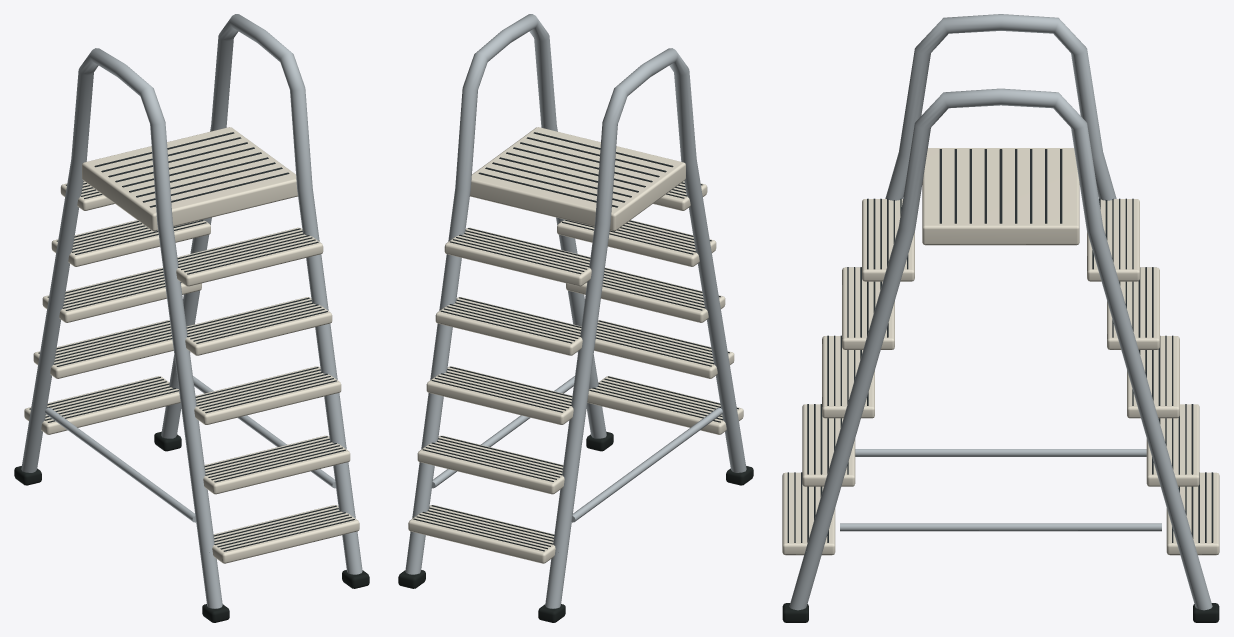
File: outdoor-pool-ladder.glb
3 views of the same model, side by side, from view 1: azimuth 30°, elevation 25°; view 2: azimuth 150°, elevation 25°; view 3: azimuth 270°, elevation 25° (orthographic). The views are drawn at different scales.
Parts seen in each view (by area): view 1: outdoor-pool-ladder authored assembly; view 2: outdoor-pool-ladder authored assembly; view 3: outdoor-pool-ladder authored assembly.
Boxes of the visible parts, x1=… form: outdoor-pool-ladder authored assembly: x1=14, y1=14, x2=369, y2=622; outdoor-pool-ladder authored assembly: x1=398, y1=14, x2=753, y2=622; outdoor-pool-ladder authored assembly: x1=782, y1=14, x2=1219, y2=622.
Bounding box in the file's own units: 0.66 × 1.94 × 1.45.
